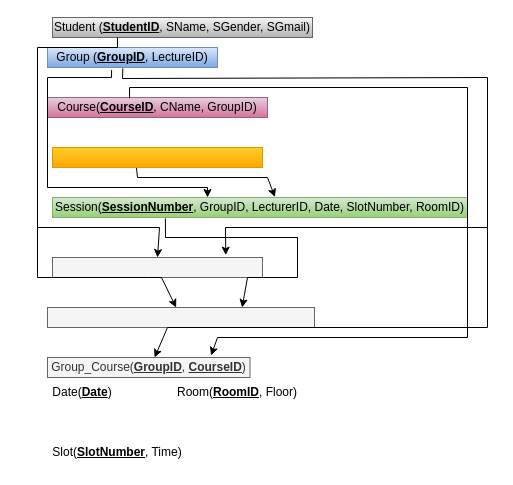
This 513x485 diagram has some shape labels left out. The box of each missing label's shape, as (x1, y1, x2, y2) in pixels:
Lecturer( LecturerID , LName, LGmail): (52, 146, 262, 168)
Student _Group( StudentID , GroupID ): (52, 256, 262, 278)
Student_Session( StudentID , SessionNumber ): (46, 306, 314, 328)
